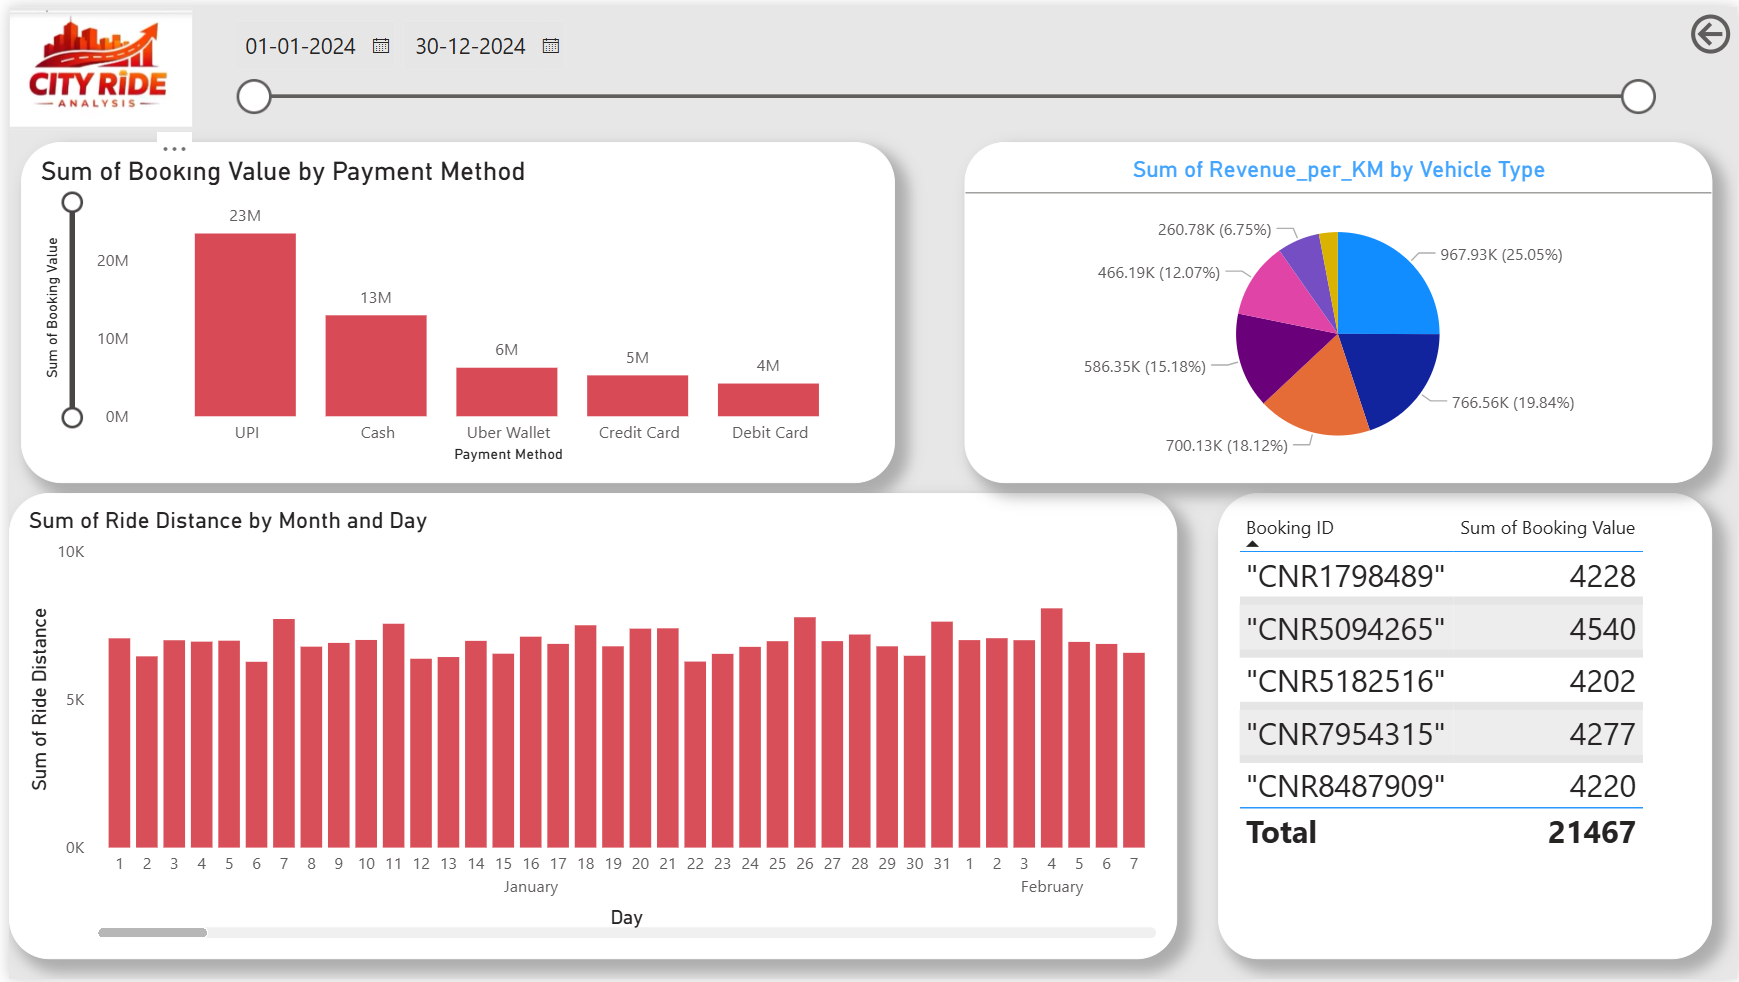

This screenshot's page, from the dashboard's own definition file:
{"tool":"powerbi","page":{"name":"Revenue","canvas":[1280,720],"ordinal":3},"visuals":[{"type":"columnChart","fields":{"Category":["rideBookings.Payment Method"],"Y":["Sum(rideBookings.Booking Value)"]},"box":[8.8,100,647.5,252.5],"z":0},{"type":"columnChart","fields":{"Y":["Sum(rideBookings.Ride Distance)"],"Category":["rideBookings.Date.Variation.Date Hierarchy.Month","rideBookings.Date.Variation.Date Hierarchy.Day"]},"box":[0,360,865,345],"z":1000},{"type":"slicer","fields":{"Values":["rideBookings.Date"]},"box":[153.8,0,1075,91.2],"z":2000},{"type":"tableEx","fields":{"Values":["rideBookings.Booking ID","Sum(rideBookings.Booking Value)"]},"box":[895,360,366.2,345],"z":3000},{"type":"actionButton","box":[1241.2,0,38.8,40],"z":4000},{"type":"image","box":[0,0,136.2,91.2],"z":5000},{"type":"pieChart","fields":{"Y":["Sum(rideBookings.Revenue_per_KM)"],"Category":["rideBookings.Vehicle Type"]},"box":[707.5,100,553.8,252.5],"z":6000}]}

Visuals, with their boxes in screenshot pixels (x1, y1, x2, y2), scaled from the page's 1280x720 canvas onto the 1739x982 screenshot:
columnChart - rideBookings.Payment Method x Sum(rideBookings.Booking Value): (12,136,892,481)
columnChart - Sum(rideBookings.Ride Distance) x rideBookings.Date.Variation.Date Hierarchy.Month: (0,491,1175,962)
slicer - rideBookings.Date: (209,0,1669,124)
tableEx - rideBookings.Booking ID x Sum(rideBookings.Booking Value): (1216,491,1713,962)
actionButton: (1686,0,1738,55)
image: (0,0,185,124)
pieChart - Sum(rideBookings.Revenue_per_KM) x rideBookings.Vehicle Type: (961,136,1714,481)
